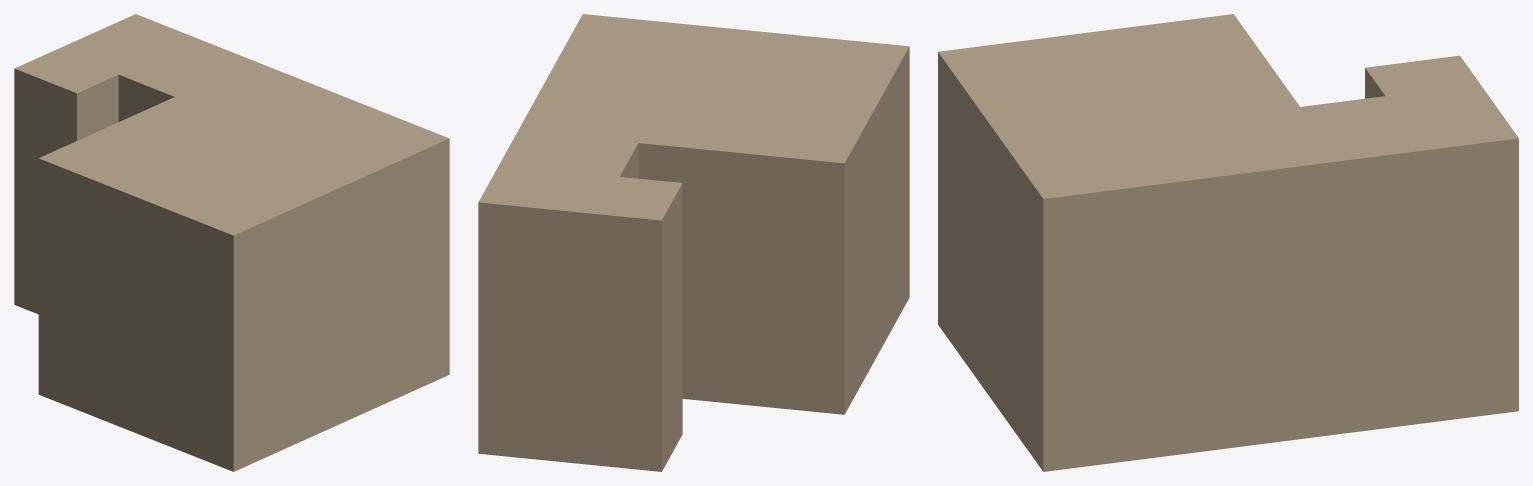
The model's file is bld_106796587.dae.
3 renders of one model, left to right at view 1: azimuth 30°, elevation 25°; view 2: azimuth 150°, elevation 25°; view 3: azimuth 270°, elevation 25°, orthographic. The views are drawn at different scales.
Visible parts, largest first — view 1: bld_106796587; view 2: bld_106796587; view 3: bld_106796587.
Part boxes in pixels (box(x1,y1,x2,y2)): bld_106796587: box(14, 14, 449, 471); bld_106796587: box(478, 14, 909, 471); bld_106796587: box(938, 14, 1518, 471).
Bounding box in the file's own units: 11.64 × 15.44 × 8.
